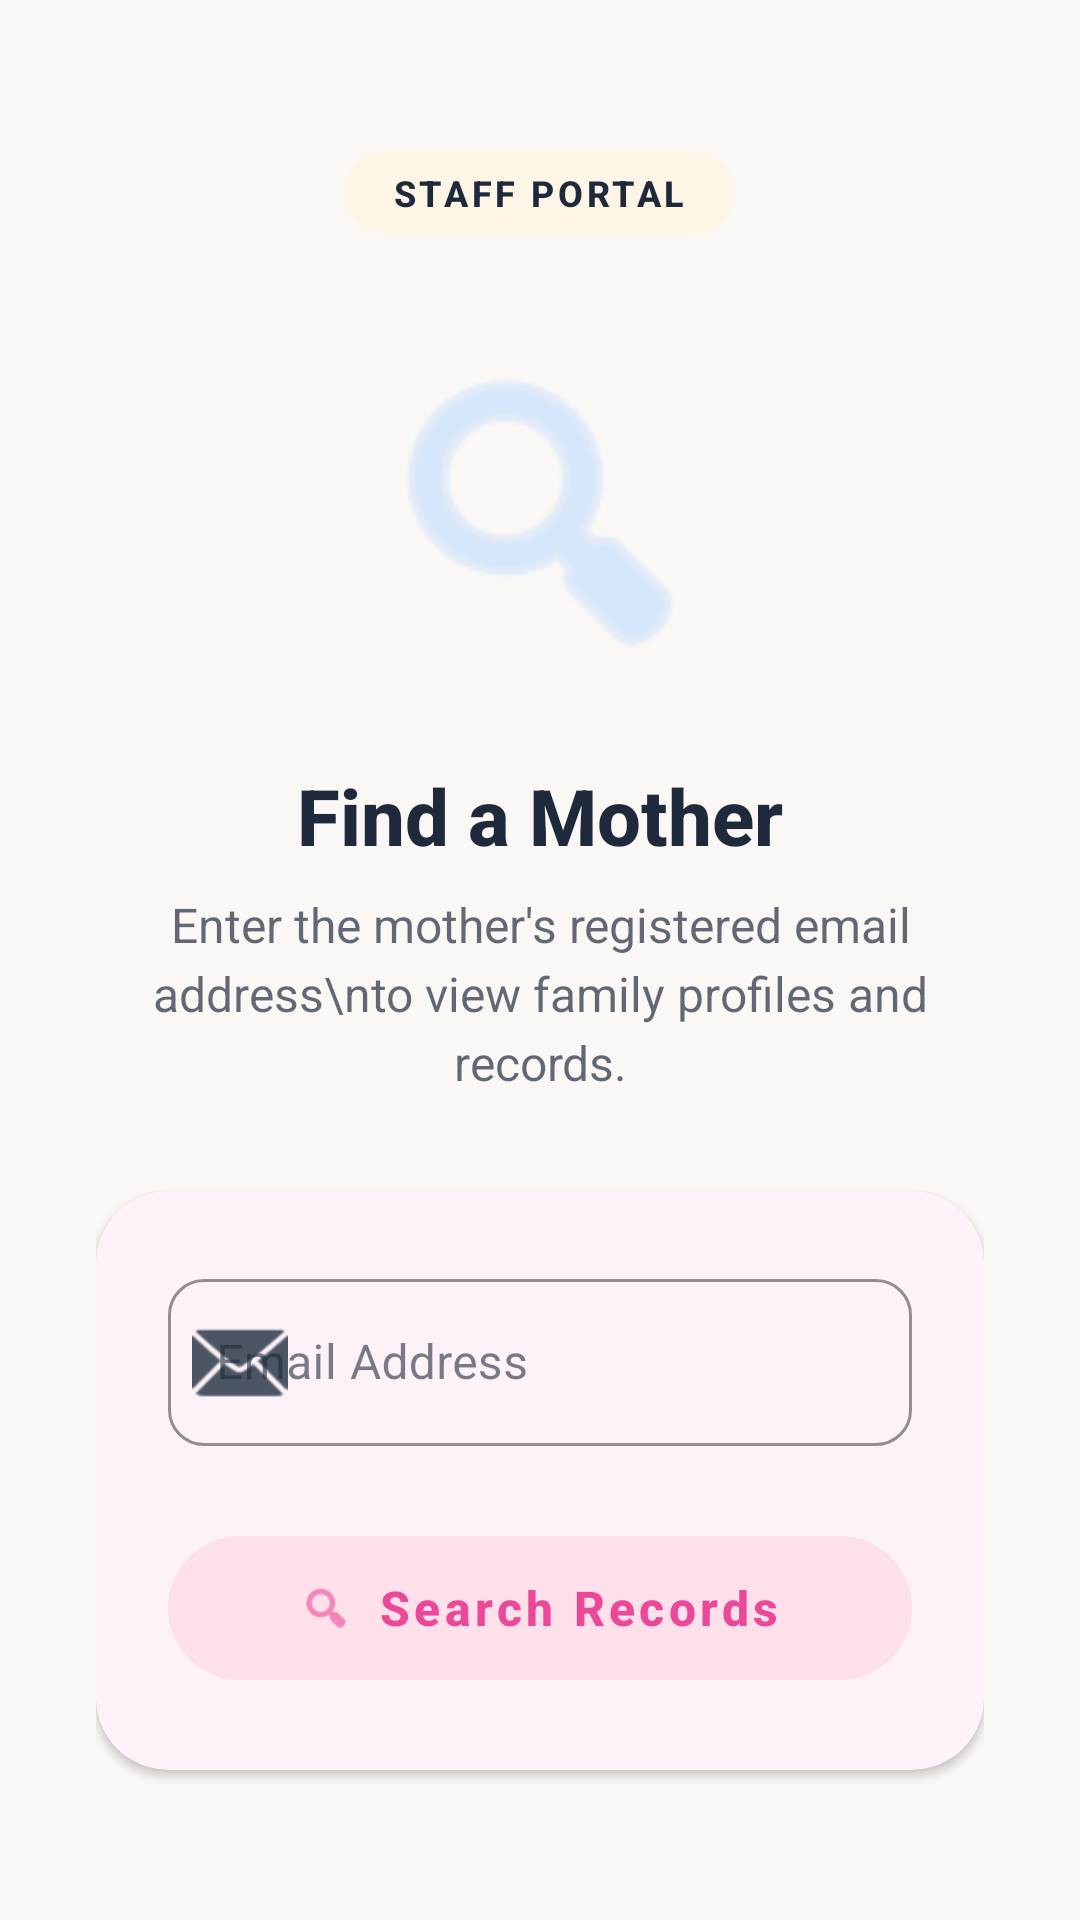

Where icons sit on this 1080w x 1920h app screen, as {"x1": x1, "y1": y1, "x2": x2, "y2": y2}:
Search Icon: {"x1": 412, "y1": 386, "x2": 669, "y2": 640}
